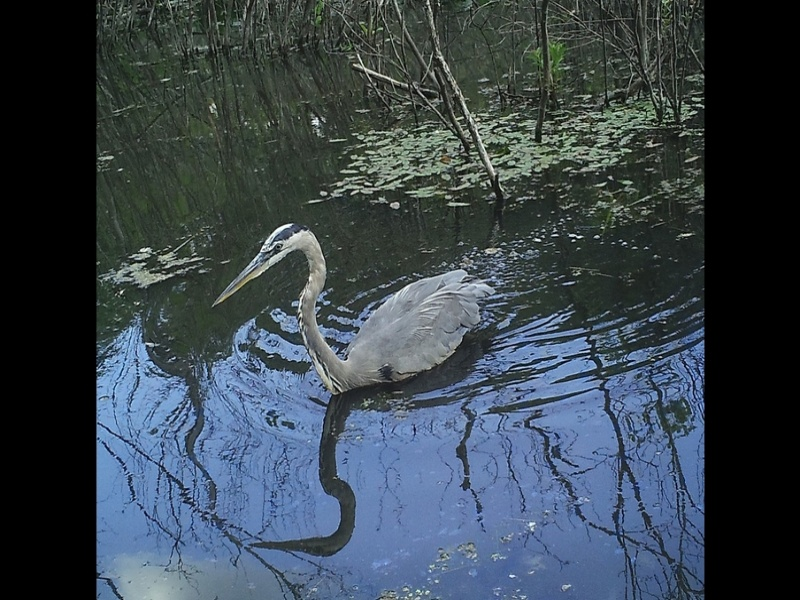heron: (210, 220, 496, 397)
